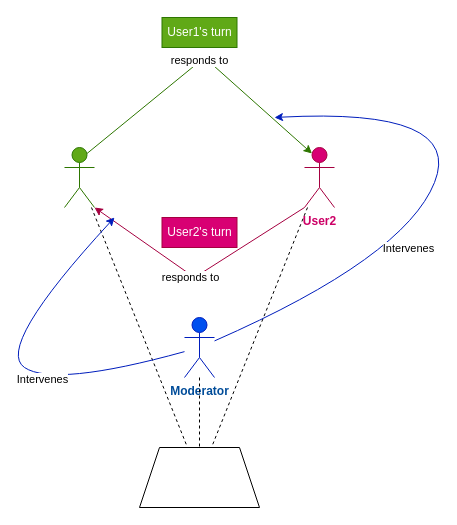
Some shapes in this 457 by 525 pixel diagram are drawn without their labels. The shapes that lost their labels are listed below. From the top down, each one's centre as x and y in pixels, then its label:
[79,177]: User1
[199,477]: LLM instance
